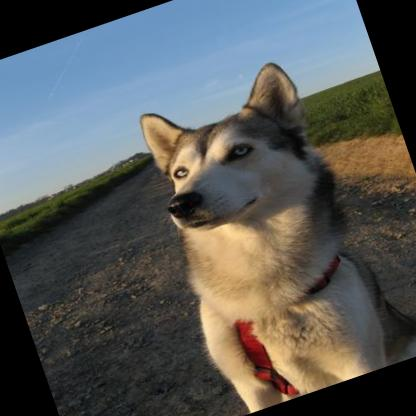Siberian_husky: (121, 27, 416, 416)
